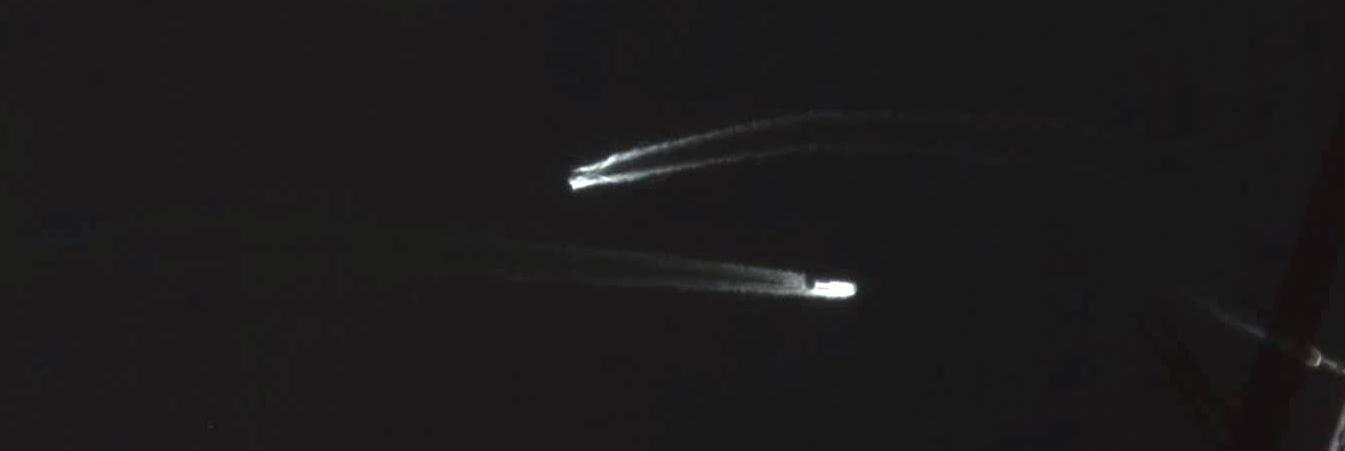person: (813, 280, 857, 300), (571, 168, 598, 182)
